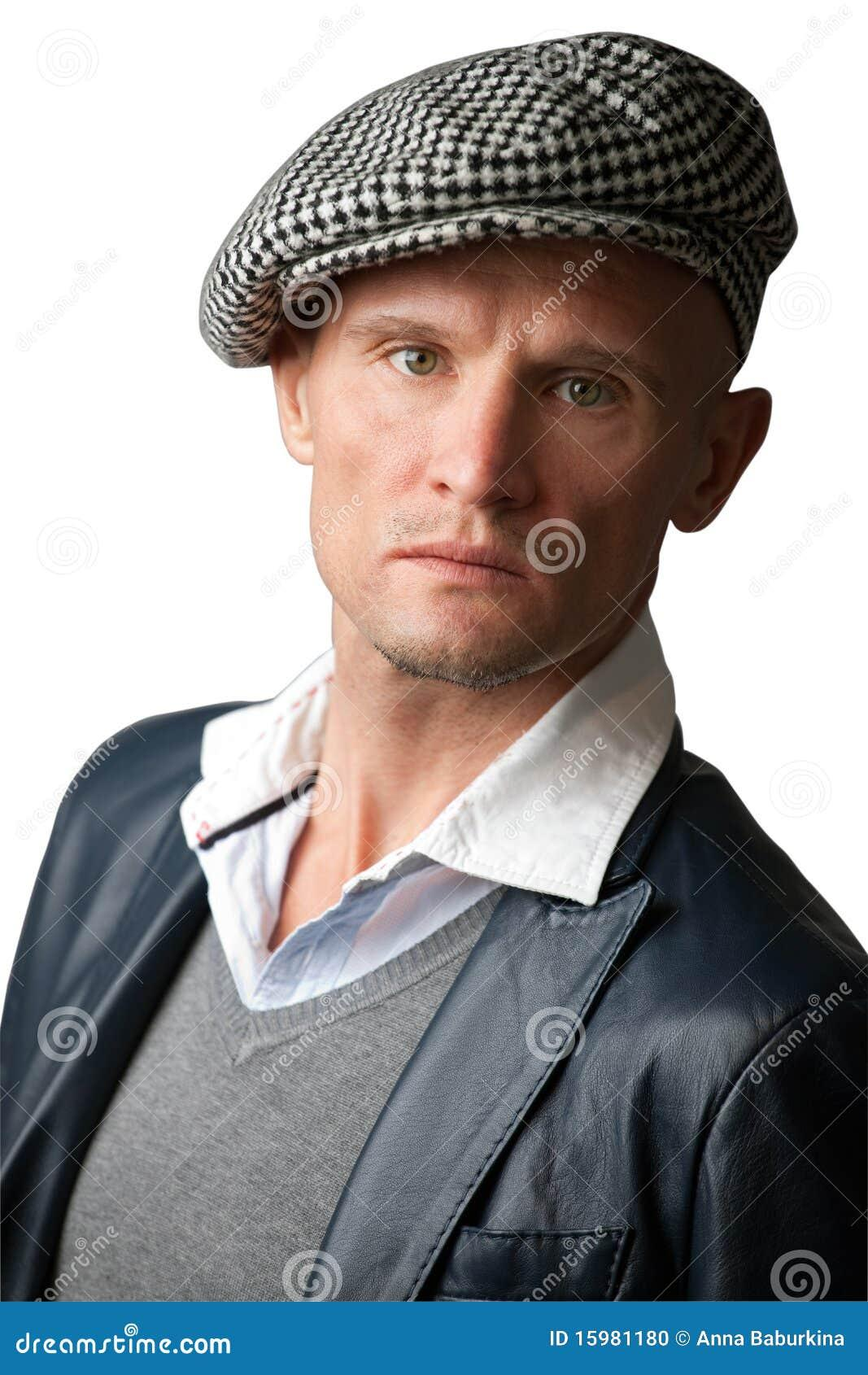cap: (167, 16, 830, 382)
